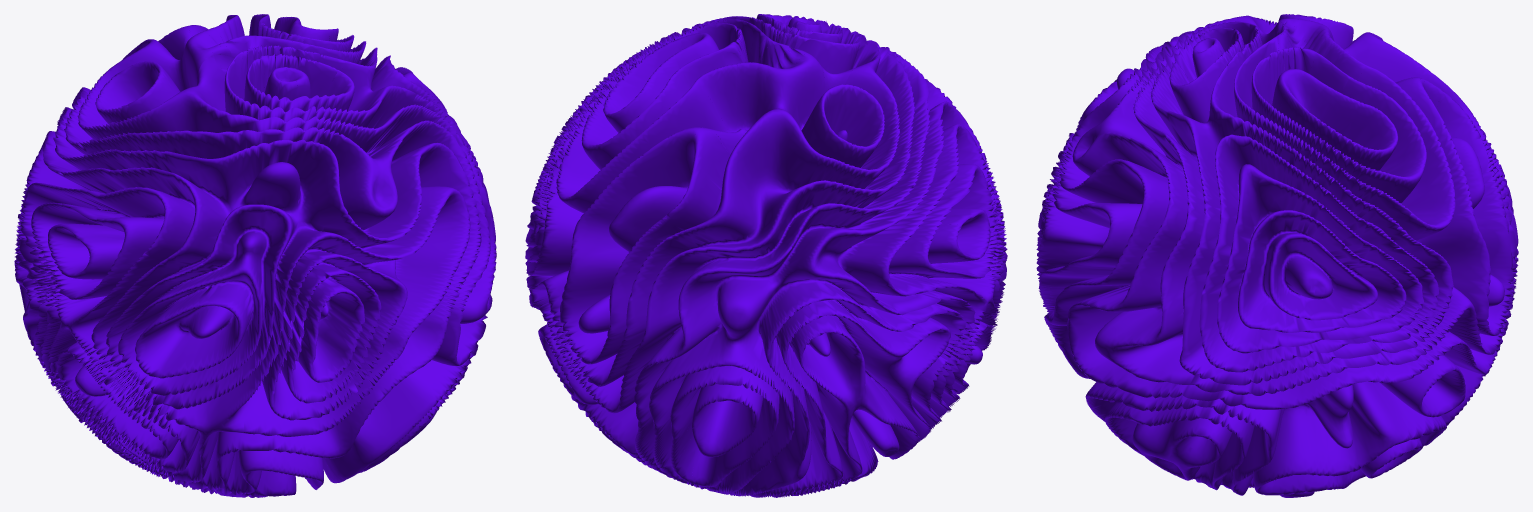
The model's file is form_6.glb.
3 views of the same model, side by side, from view 1: azimuth 30°, elevation 25°; view 2: azimuth 150°, elevation 25°; view 3: azimuth 270°, elevation 25° (orthographic).
Parts seen in each view (by area): view 1: Sphere; view 2: Sphere; view 3: Sphere.
Part boxes in pixels (x1,y1,x2,y2): Sphere: (14,14,496,497); Sphere: (525,14,1007,497); Sphere: (1036,14,1518,497).
Size of the model in its own units: 2.66 by 2.68 by 2.66.
